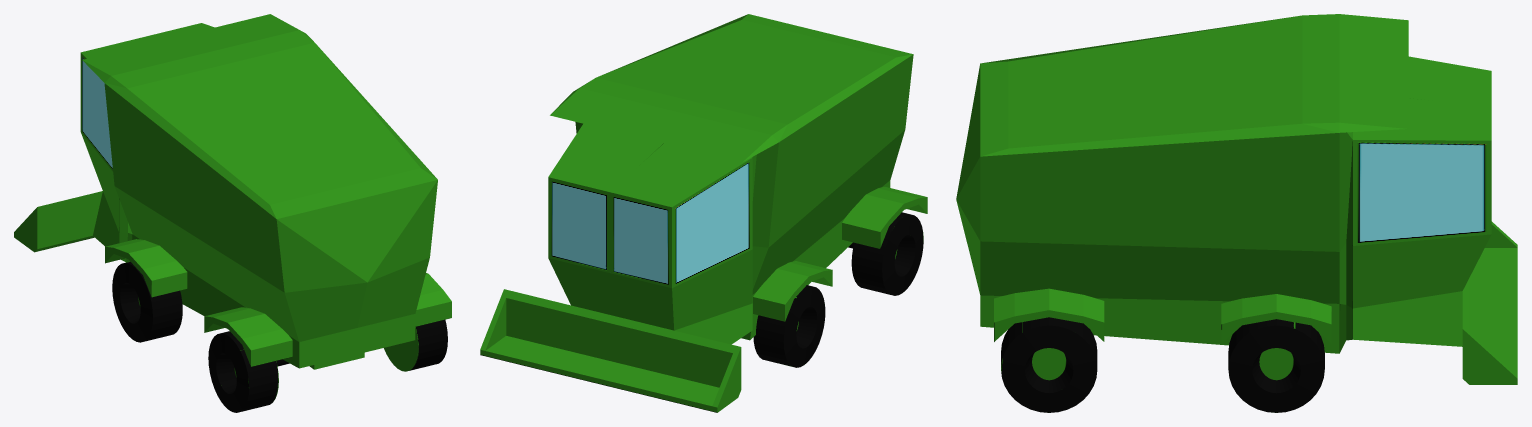
Rendered from combine.gltf.
3 views of the same model, side by side, from view 1: azimuth 30°, elevation 25°; view 2: azimuth 150°, elevation 25°; view 3: azimuth 270°, elevation 25° (orthographic). The views are drawn at different scales.
Parts seen in each view (by area): view 1: Cube; view 2: Cube; view 3: Cube.
Boxes of the visible parts, left/top/right/bottom form: Cube: left=14, top=14, right=451, bottom=412; Cube: left=480, top=14, right=927, bottom=412; Cube: left=956, top=14, right=1517, bottom=412.
Size of the model in its own units: 4.6 by 4.6 by 8.15.
Materials: 1 (1 with a texture image).
